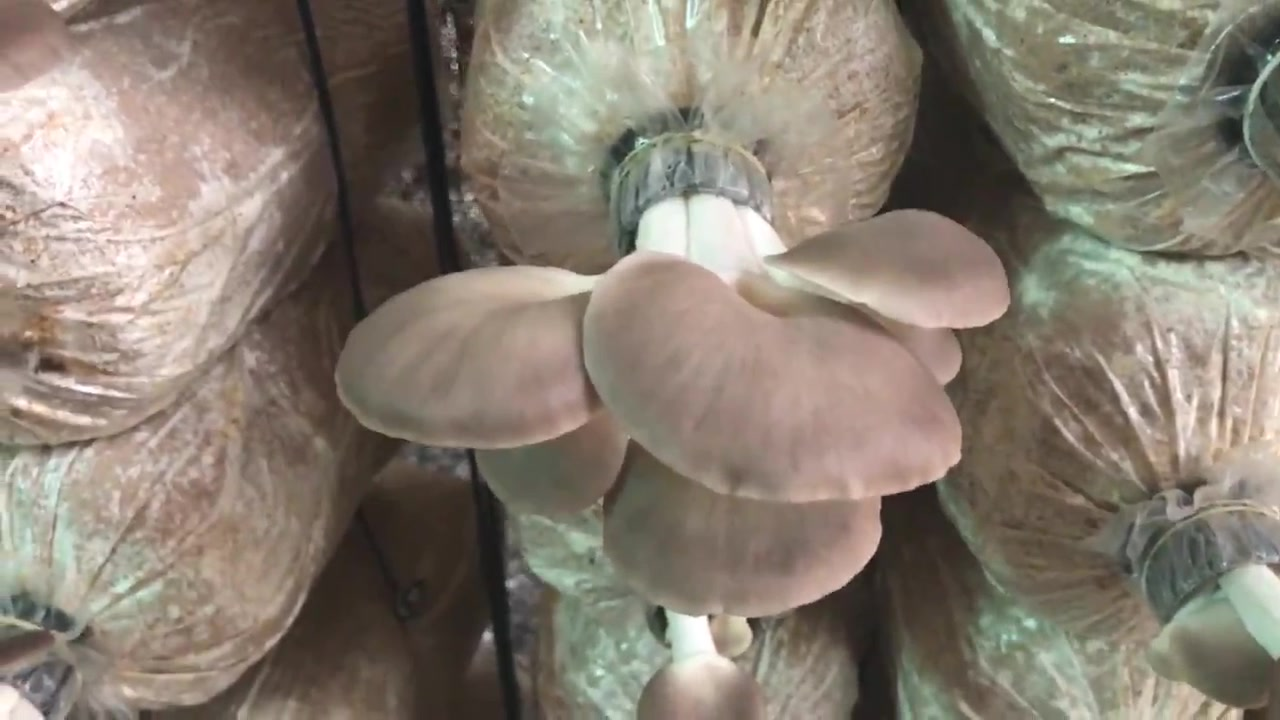nam: (336, 138, 1009, 613), (1148, 511, 1280, 707), (638, 612, 772, 719)
